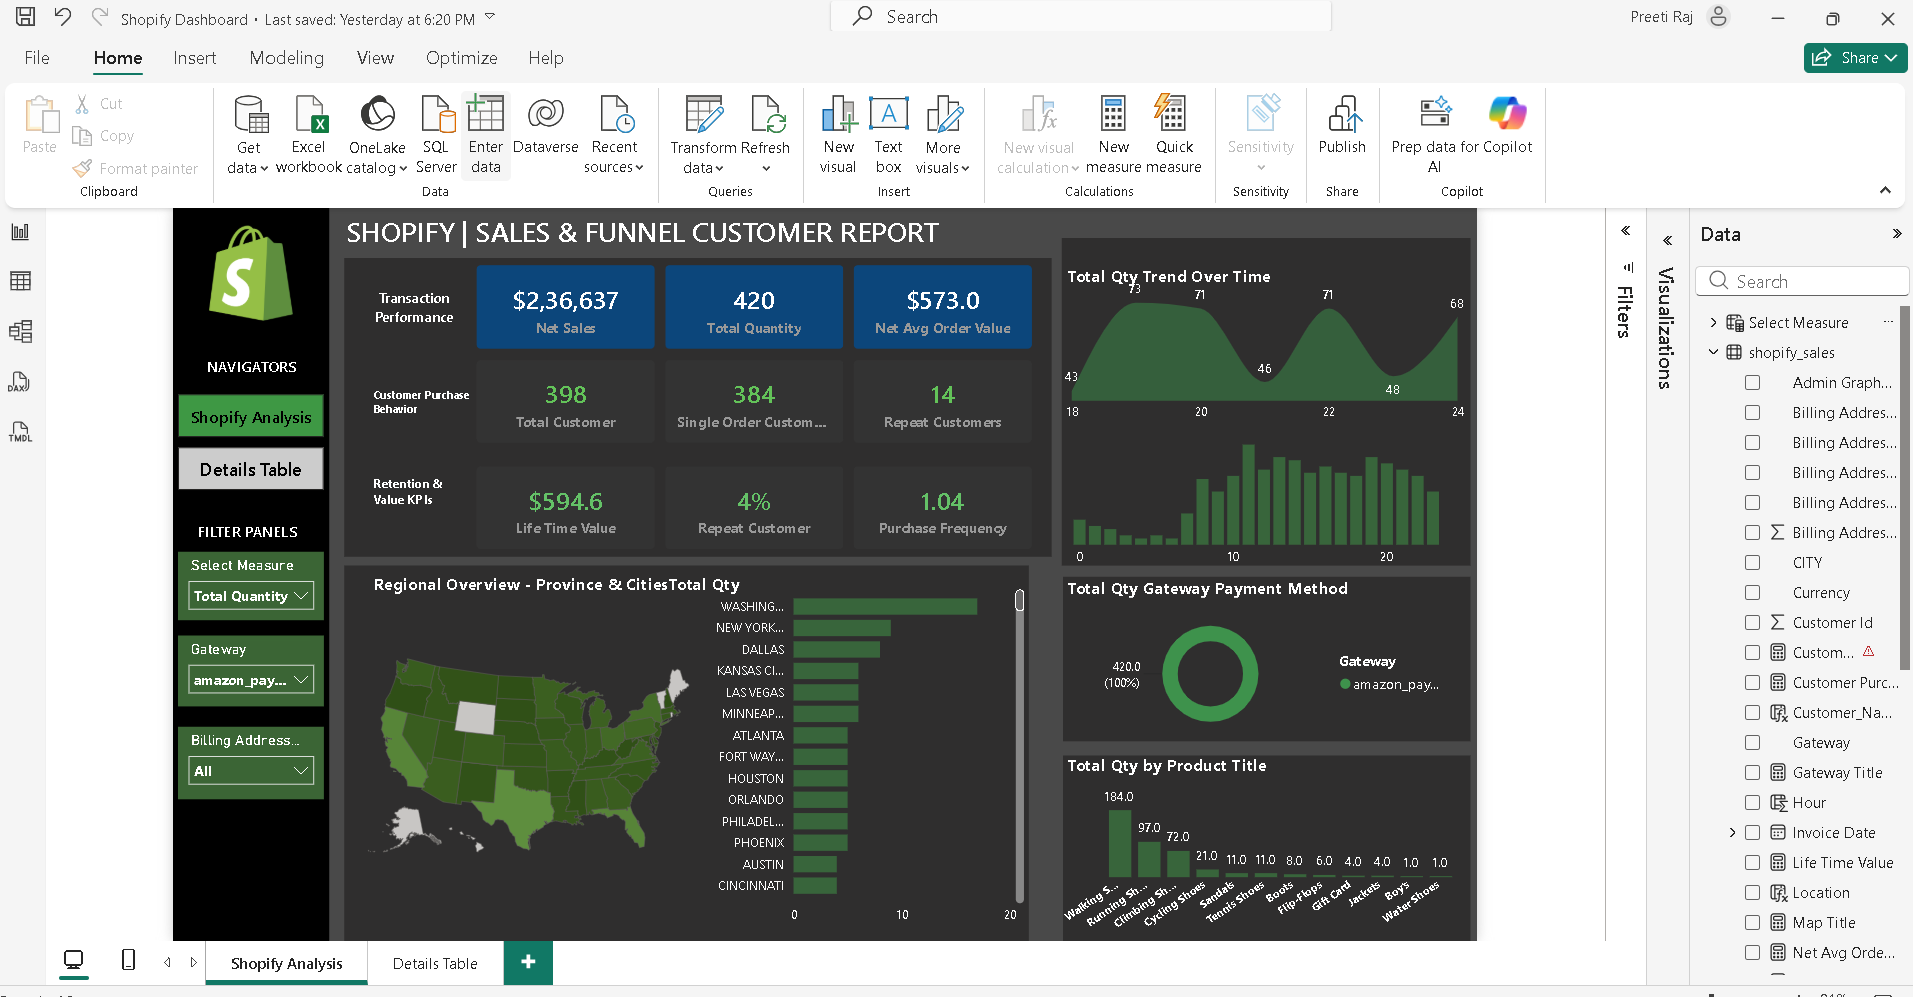

The page's visual inventory and layout, read from the dashboard file:
{"tool":"powerbi","page":{"name":"Shopify Analysis ","canvas":[1280,720],"ordinal":0},"visuals":[{"type":"shape","box":[0,0,153.4,720.2],"z":0},{"type":"textbox","box":[153.4,0,614.7,49.1],"z":1000},{"type":"shape","box":[168.1,49.1,694.5,293.3],"z":2000},{"type":"cardVisual","fields":{"Data":["shopify_sales.Net Sales","shopify_sales.Total Quantity","shopify_sales.Net Avg Order Value"]},"box":[281,39.3,581.6,116.6],"z":3000},{"type":"cardVisual","fields":{"Data":["shopify_sales.Transaction Pref"]},"box":[168.1,36.8,137.4,119],"z":4000},{"type":"cardVisual","fields":{"Data":["shopify_sales.Total Customer","shopify_sales.Single Order Customers","shopify_sales.Repeat Customers"]},"box":[281,132.5,581.6,115.3],"z":5000},{"type":"cardVisual","fields":{"Data":["shopify_sales.Customer Purchase Behavior"]},"box":[168.1,138.7,159.5,101.8],"z":6000},{"type":"cardVisual","fields":{"Data":["shopify_sales.Life Time Value","shopify_sales.Repeat Customer","shopify_sales.Purchase Frequency"]},"box":[281.2,236.2,581.2,115],"z":7000},{"type":"cardVisual","fields":{"Data":["shopify_sales.Retention & Value KPIs"]},"box":[168.1,227,138.7,101.8],"z":8000},{"type":"shape","box":[168.1,350.9,672.4,369.3],"z":9000},{"type":"shapeMap","fields":{"Category":["shopify_sales.Billing Address Province"],"Value":["shopify_sales.Net Sales"]},"box":[168.8,397.5,360,280],"z":10000},{"type":"slicer","fields":{"Values":["Select Measure .Select Measure "]},"box":[4.9,337.4,143.6,67.5],"z":11000},{"type":"clusteredBarChart","fields":{"Y":["shopify_sales.Total Quantity"],"Category":["shopify_sales.CITY"]},"box":[515.3,362,325.2,349.7],"z":12000},{"type":"cardVisual","fields":{"Data":["shopify_sales.Map Title"]},"box":[168.1,316.6,446.6,100.6],"z":13000},{"type":"shape","box":[871.8,29.5,401.3,321.8],"z":14000},{"type":"areaChart","fields":{"Y":["shopify_sales.Total Quantity"],"Category":["shopify_sales.Invoice Date.Variation.Date Hierarchy.Day"]},"box":[867.5,58.9,408.6,159.5],"z":15000},{"type":"columnChart","fields":{"Y":["shopify_sales.Total Quantity"],"Category":["shopify_sales.Hour"]},"box":[878.5,193.9,401.2,166.9],"z":16000},{"type":"cardVisual","fields":{"Data":["shopify_sales.Trend Title"]},"box":[849.1,31.9,348.5,65],"z":17000},{"type":"shape","box":[873.1,361.5,400,161.5],"z":18000},{"type":"donutChart","fields":{"Y":["shopify_sales.Total Quantity"],"Category":["shopify_sales.Gateway"]},"box":[887.2,391,371.8,132.1],"z":19000},{"type":"cardVisual","fields":{"Data":["shopify_sales.Gateway Title"]},"box":[848.7,320.5,355.1,100],"z":20000},{"type":"shape","box":[873.1,537.2,400,183.3],"z":21000},{"type":"columnChart","fields":{"Y":["shopify_sales.Total Quantity"],"Category":["shopify_sales.Product Type"]},"box":[867.9,553.8,405.1,166.7],"z":22000},{"type":"cardVisual","fields":{"Data":["shopify_sales.Product Title"]},"box":[848.7,502.6,256.4,83.3],"z":23000},{"type":"image","box":[25.6,16.7,101.3,93.6],"z":24000},{"type":"slicer","fields":{"Values":["shopify_sales.Gateway"]},"box":[4.9,419.6,143.6,69.9],"z":25000},{"type":"slicer","fields":{"Values":["shopify_sales.Billing Address Province"]},"box":[4.9,509.2,143.6,71.2],"z":26000},{"type":"pageNavigator","box":[4.9,182.8,143.6,95.7],"z":26001},{"type":"textbox","box":[20.9,139.9,112.9,50.3],"z":26002},{"type":"textbox","box":[19.6,301.8,114.1,40.5],"z":26003}]}

Visuals, with their boxes on the page's 1280x720 design canvas (x1, y1, x2, y2). These are canvas units, not pixel positions in the 1913x997 screenshot, which may show the page scaled, cropped or inside an application window:
shape: box(0, 0, 153, 720)
textbox: box(153, 0, 768, 49)
shape: box(168, 49, 863, 342)
cardVisual - shopify_sales.Net Sales x shopify_sales.Total Quantity: box(281, 39, 863, 156)
cardVisual - shopify_sales.Transaction Pref: box(168, 37, 306, 156)
cardVisual - shopify_sales.Total Customer x shopify_sales.Single Order Customers: box(281, 132, 863, 248)
cardVisual - shopify_sales.Customer Purchase Behavior: box(168, 139, 328, 240)
cardVisual - shopify_sales.Life Time Value x shopify_sales.Repeat Customer: box(281, 236, 862, 351)
cardVisual - shopify_sales.Retention & Value KPIs: box(168, 227, 307, 329)
shape: box(168, 351, 840, 720)
shapeMap - shopify_sales.Billing Address Province x shopify_sales.Net Sales: box(169, 398, 529, 678)
slicer - Select Measure .Select Measure : box(5, 337, 148, 405)
clusteredBarChart - shopify_sales.Total Quantity x shopify_sales.CITY: box(515, 362, 840, 712)
cardVisual - shopify_sales.Map Title: box(168, 317, 615, 417)
shape: box(872, 30, 1273, 351)
areaChart - shopify_sales.Total Quantity x shopify_sales.Invoice Date.Variation.Date Hierarchy.Day: box(868, 59, 1276, 218)
columnChart - shopify_sales.Total Quantity x shopify_sales.Hour: box(878, 194, 1280, 361)
cardVisual - shopify_sales.Trend Title: box(849, 32, 1198, 97)
shape: box(873, 362, 1273, 523)
donutChart - shopify_sales.Total Quantity x shopify_sales.Gateway: box(887, 391, 1259, 523)
cardVisual - shopify_sales.Gateway Title: box(849, 320, 1204, 420)
shape: box(873, 537, 1273, 720)
columnChart - shopify_sales.Total Quantity x shopify_sales.Product Type: box(868, 554, 1273, 720)
cardVisual - shopify_sales.Product Title: box(849, 503, 1105, 586)
image: box(26, 17, 127, 110)
slicer - shopify_sales.Gateway: box(5, 420, 148, 490)
slicer - shopify_sales.Billing Address Province: box(5, 509, 148, 580)
pageNavigator: box(5, 183, 148, 278)
textbox: box(21, 140, 134, 190)
textbox: box(20, 302, 134, 342)
